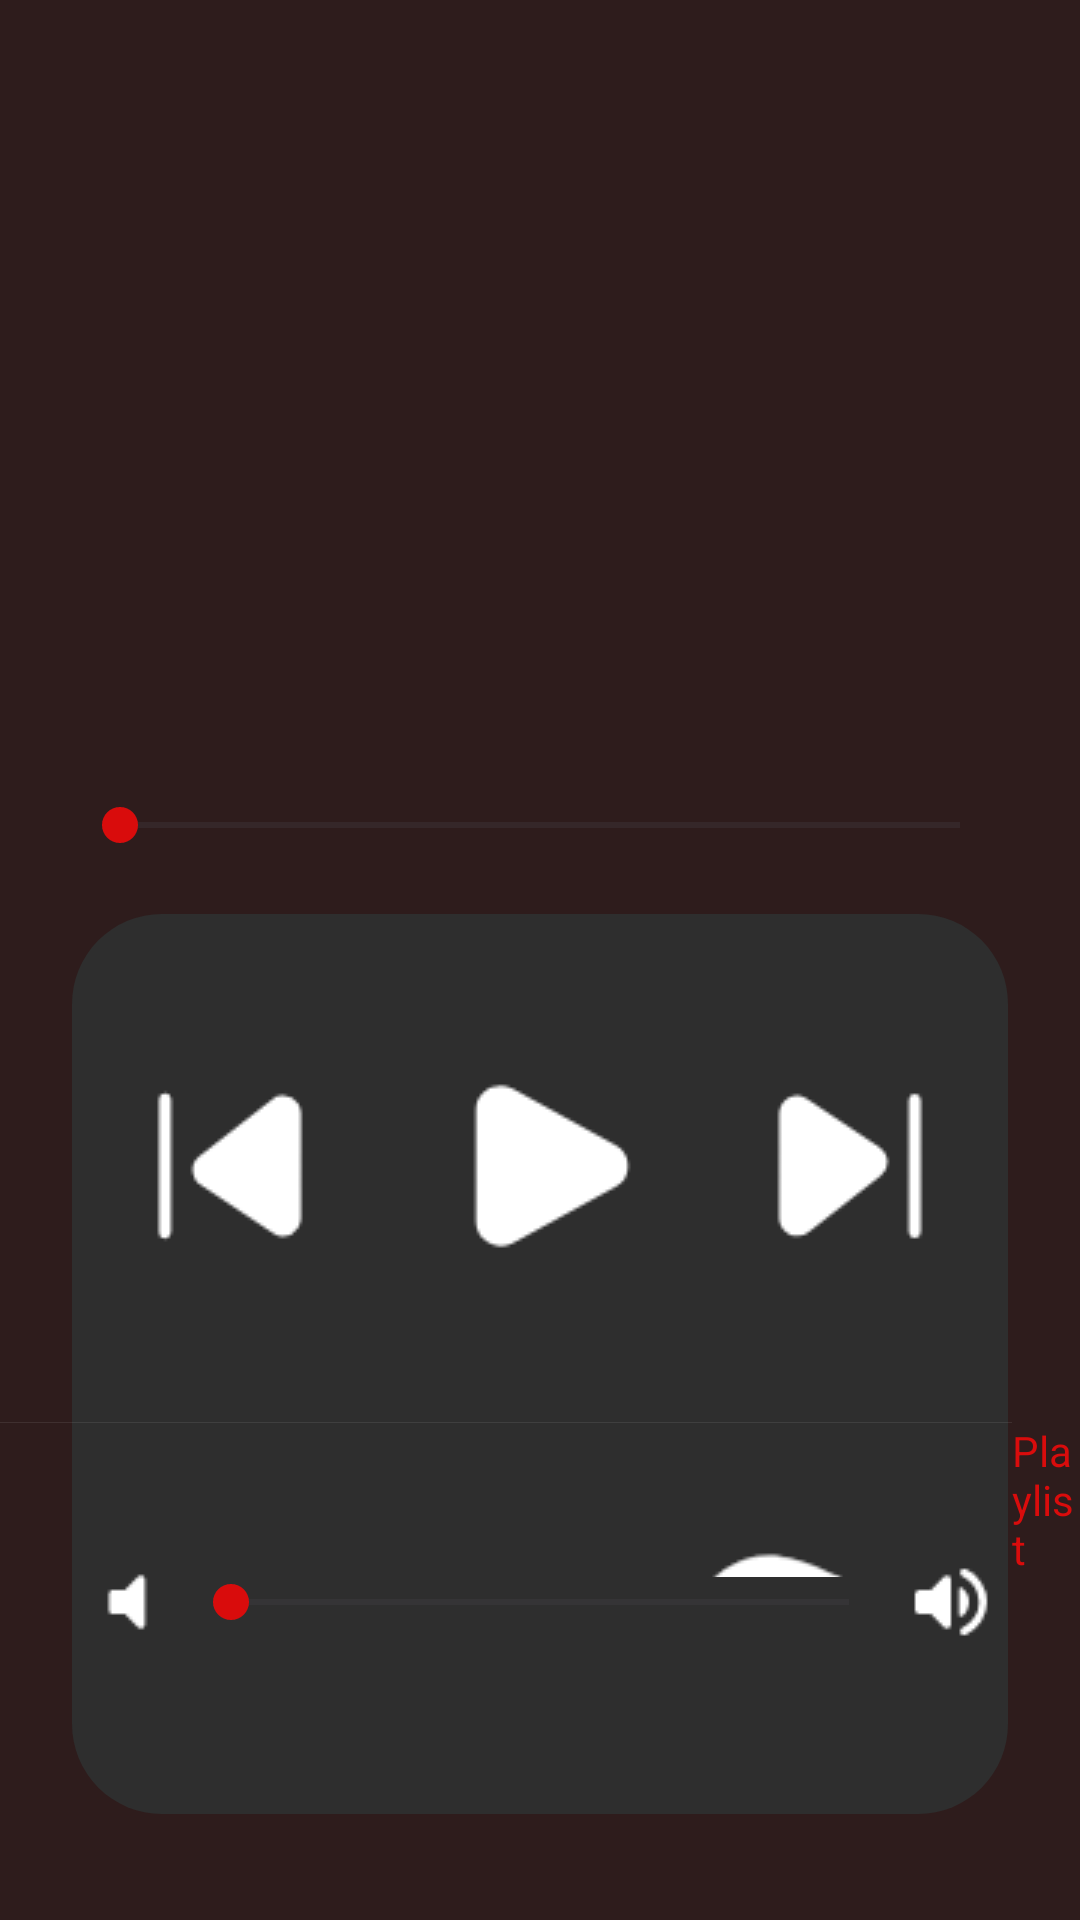

Screen size 1080w x 1920h. Icon name, then its box in pixels as [x1=x1, y1=y1, x2=x2, y2=y2]:
Next: [x1=777, y1=1093, x2=923, y2=1239]
Play: [x1=474, y1=1084, x2=630, y2=1248]
Prev: [x1=157, y1=1091, x2=303, y2=1240]
vol down: [x1=107, y1=1574, x2=147, y2=1630]
vol up: [x1=914, y1=1568, x2=988, y2=1636]
